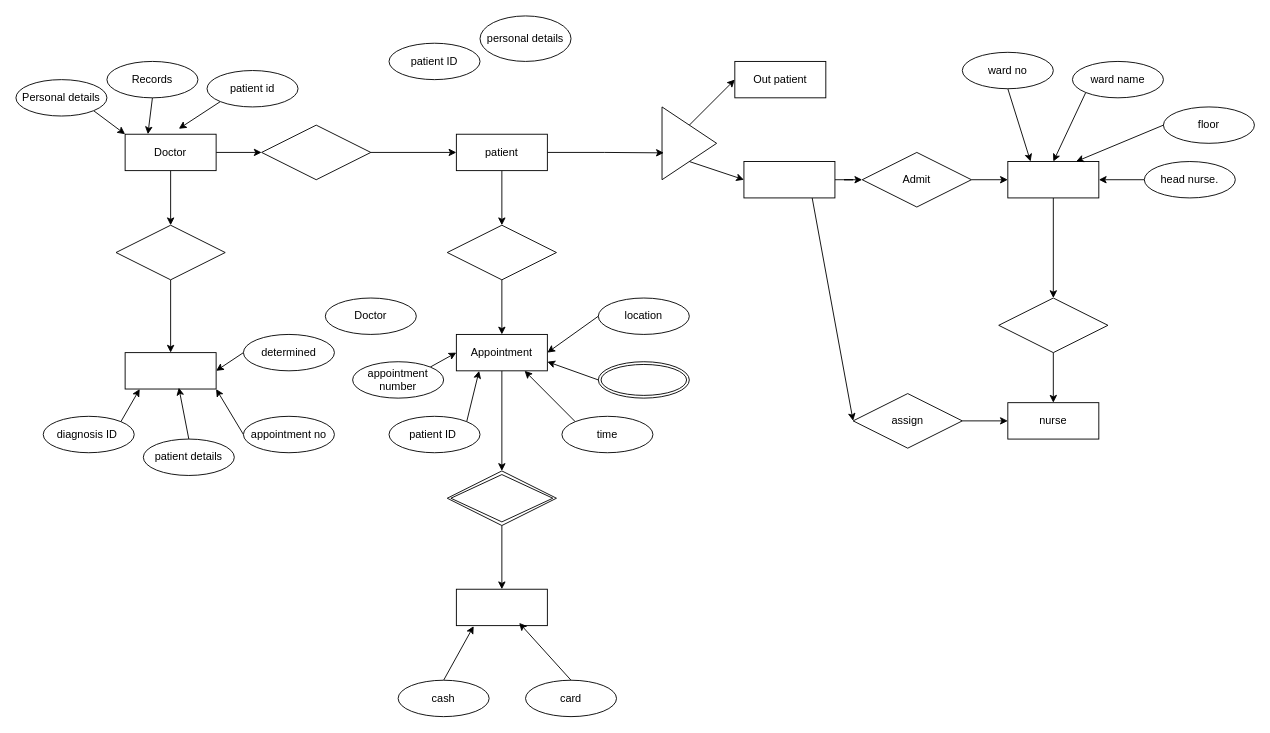
The diagram is 1270 pixels wide and 733 high, and some of its shapes have lost their labels. Each missing label, with the box of its shape:
Admit patient: (743, 161, 835, 198)
contact number: (597, 361, 689, 398)
diagnosis: (124, 352, 216, 389)
Has: (998, 297, 1108, 353)
iss: (661, 106, 717, 180)
make: (446, 224, 556, 280)
payment: (455, 588, 547, 626)
recoded: (446, 470, 556, 526)
record: (115, 224, 225, 280)
treat: (261, 124, 371, 180)
ward: (1007, 161, 1099, 198)
